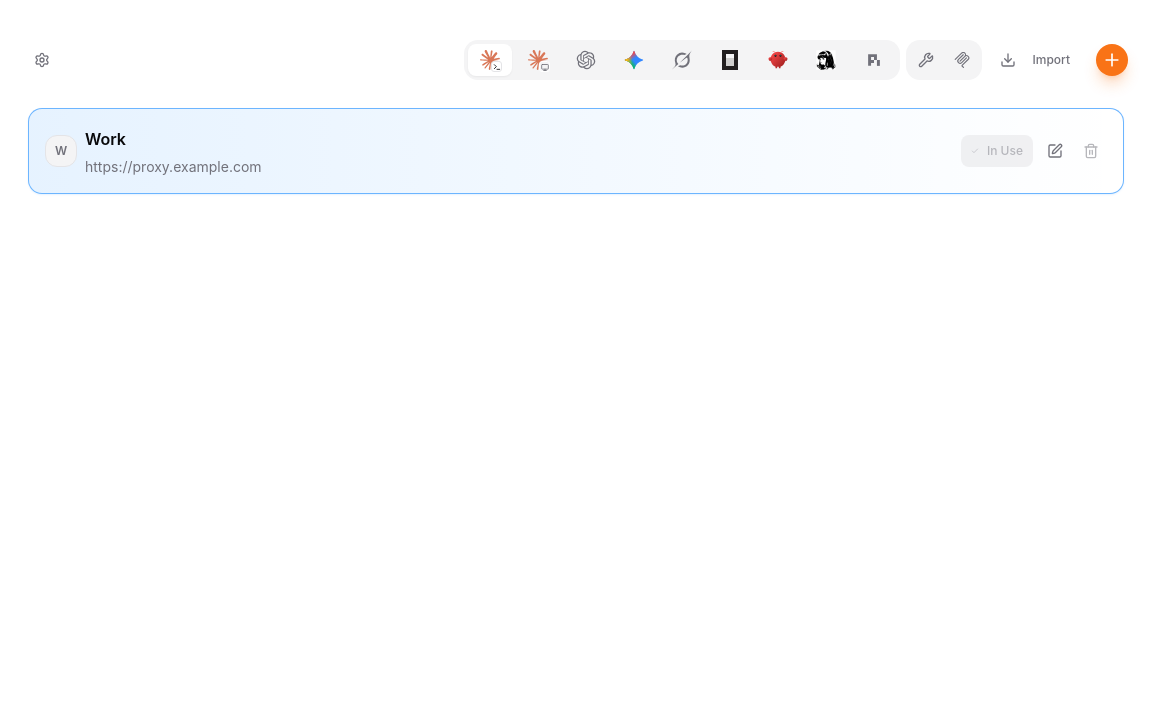
Test: App › offers reactivation after editing the current provider
The image size is (1152, 720).
Expected: the button with aria-label "Work is the Claude Code user default" is disabled, [961,135,1033,167]
Click the button named "Edit Work". click: (1055, 151)
box: [1039,135,1071,167]
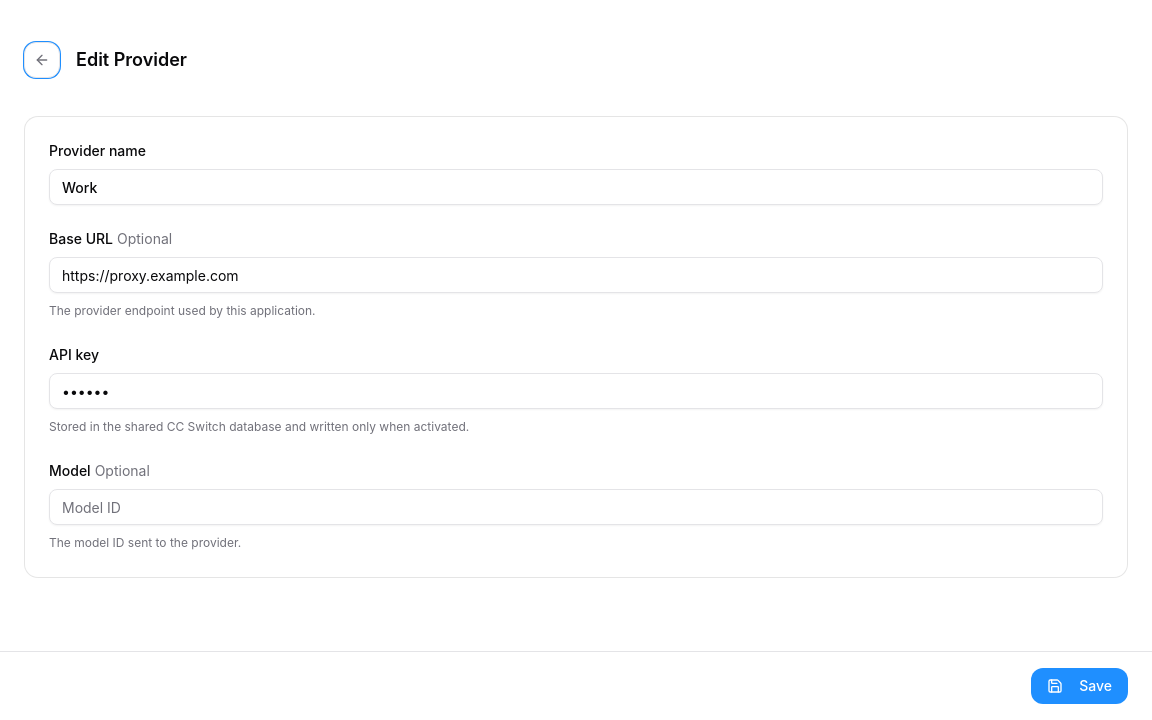
Type "Primary" into the field labelled "Provider name". click: (576, 187)
box: [49,169,1103,205]
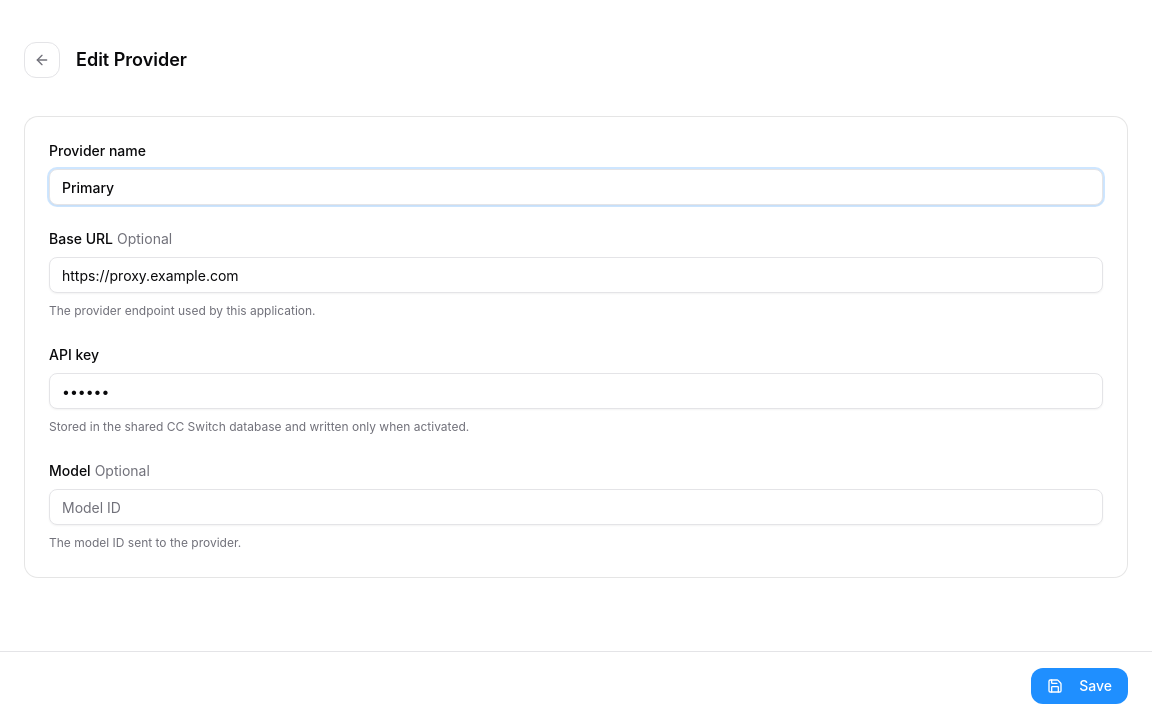
Click the button "Save". click: (1080, 686)
box: [1031,668,1128,704]
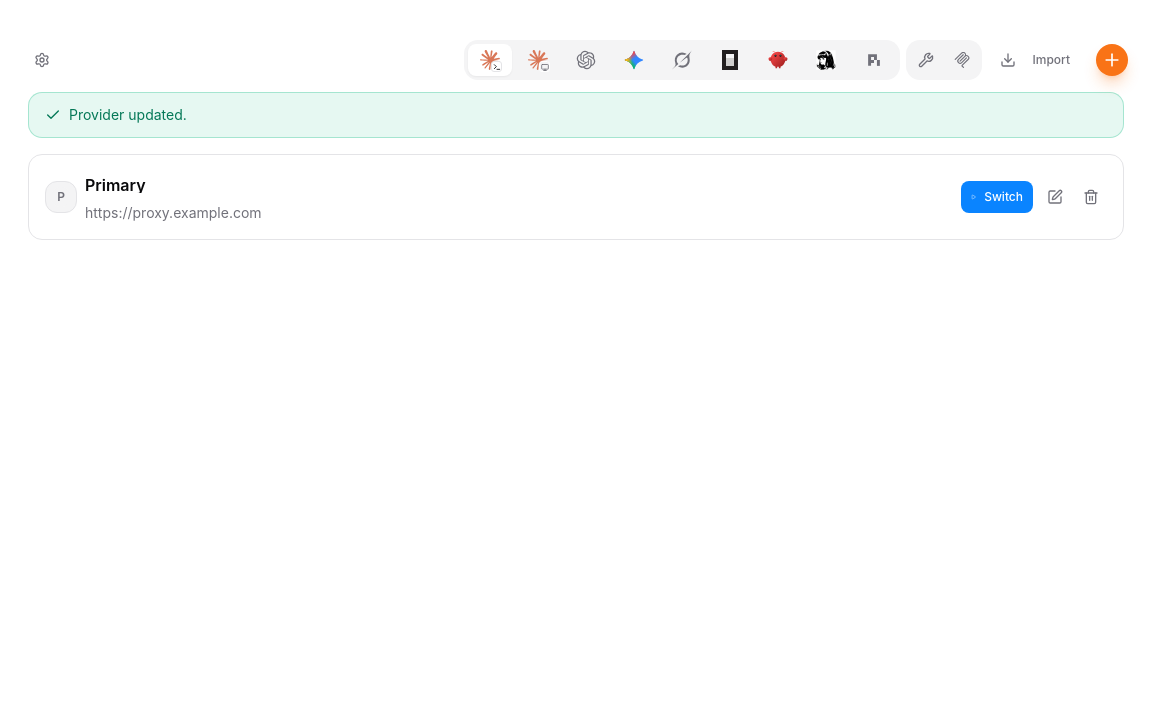
Result: the button with aria-label "Switch to Primary" is enabled at [961,181,1033,213]
